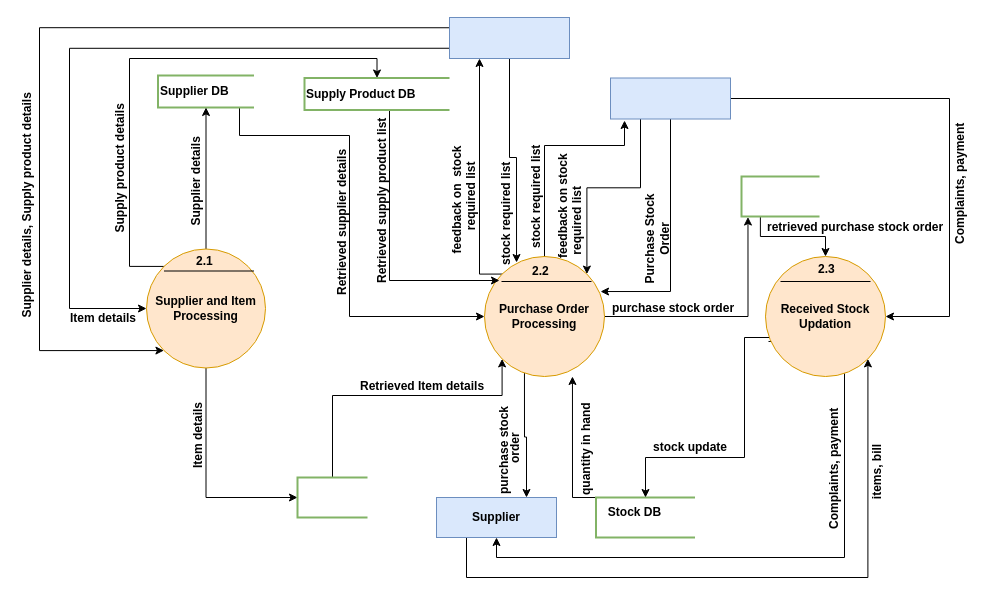
Image size: 1008x603. Some labels were removed from this diagram. Each missing label, with the centre of its shape:
"Admin" belongs at (x=670, y=98).
"Employee" belongs at (x=509, y=37).
"Item dB" belongs at (x=332, y=497).
"Order Db" belongs at (x=780, y=196).
